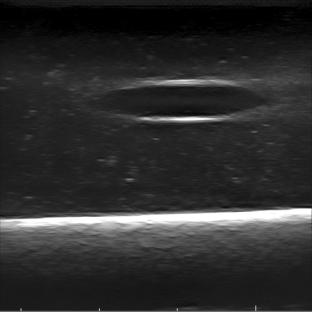vessel: (99, 79, 269, 125)
